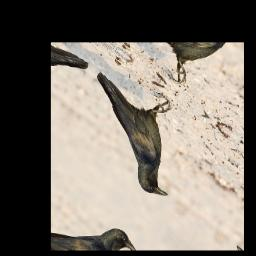Crow: (65, 55, 206, 206)
